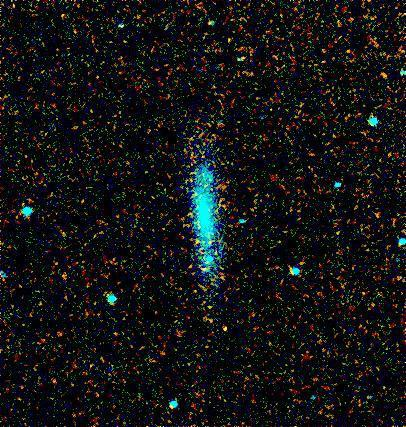star: (209, 314, 239, 344)
